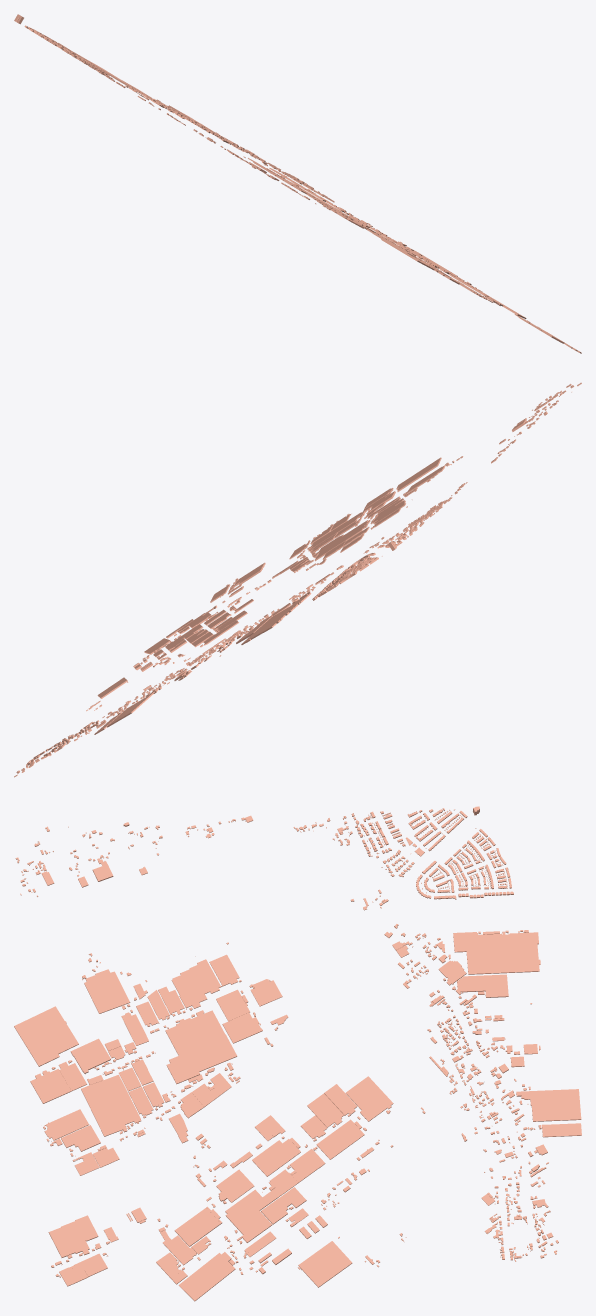
The picture shows the model from 3 angles, top to bottom: view 1: azimuth 30°, elevation 25°; view 2: azimuth 150°, elevation 25°; view 3: azimuth 270°, elevation 25°; orthographic projection. The views are drawn at different scales.
Size of the model in its own units: 2123 by 1595 by 2673.
